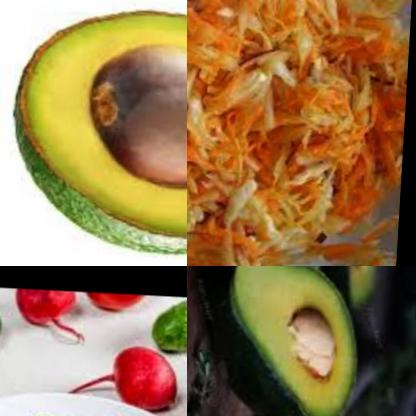avocado: (0, 0, 187, 266), (187, 266, 387, 416)
cabbage: (240, 151, 340, 266), (226, 45, 301, 130), (260, 0, 355, 21)
carrot: (341, 79, 409, 224), (187, 0, 234, 67), (187, 99, 226, 165)
cucumber: (0, 393, 176, 416), (148, 291, 187, 354)
rediska: (110, 340, 187, 408), (5, 286, 83, 335), (86, 290, 145, 325)
